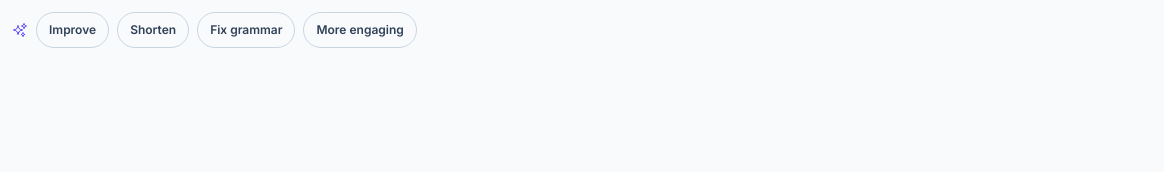
Test: TweetAssistPanel › Regenerate repeats the last action
Click the button "More engaging" at (360, 30), box top-left (304, 12), bottom-right (417, 48)
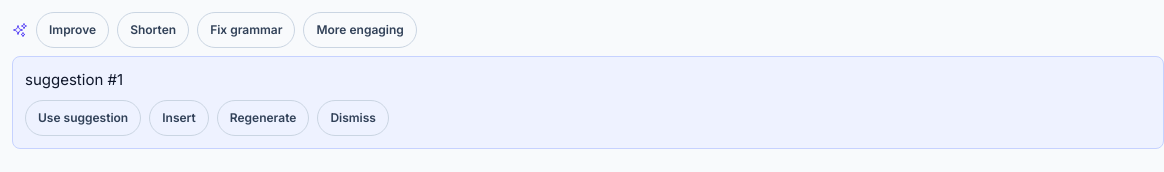
Now the element with test id "assist-suggestion" is shown, box top-left (12, 56), bottom-right (1163, 148)
Click the button "Regenerate" at (263, 118), box top-left (217, 100), bottom-right (309, 136)
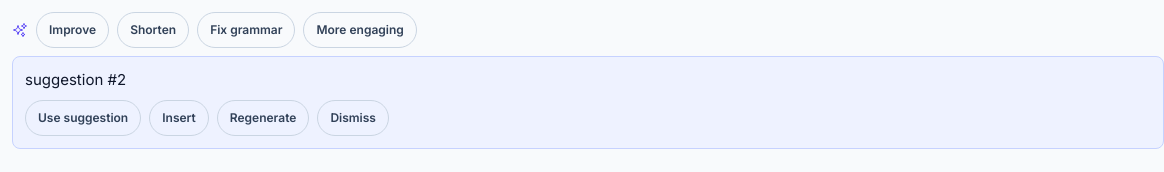
Now the element with test id "assist-suggestion" shows "suggestion #2", box top-left (25, 70), bottom-right (126, 89)
